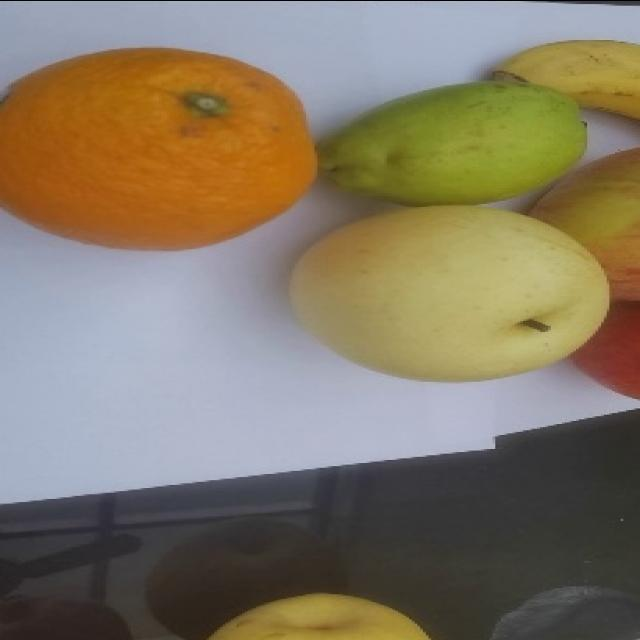Orange: (0, 45, 318, 251)
